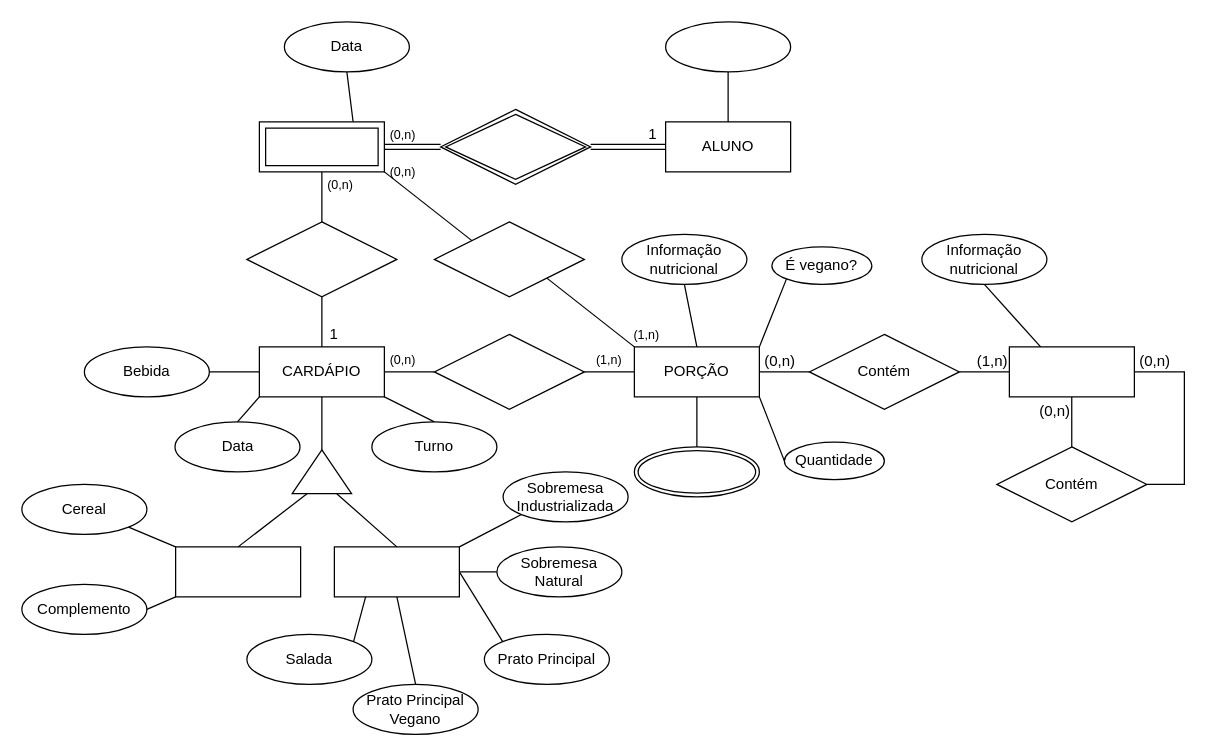
The diagram is 1208 pixels wide and 756 high, and some of its shapes have lost their labels. Each missing label, with the centre of its shape:
"Bandeja" goes at pixel 321 146.
"Café da Manhã" goes at pixel 237 571.
"Escolhe" goes at pixel 508 259.
"Estatísticas de Consumo" goes at pixel 696 471.
"Identificação" goes at pixel 727 46.
"Inclui" goes at pixel 508 371.
"INGREDIENTE" goes at pixel 1071 371.
"Monta" goes at pixel 515 146.
"Observa" goes at pixel 321 259.
"Refeição" goes at pixel 396 571.
